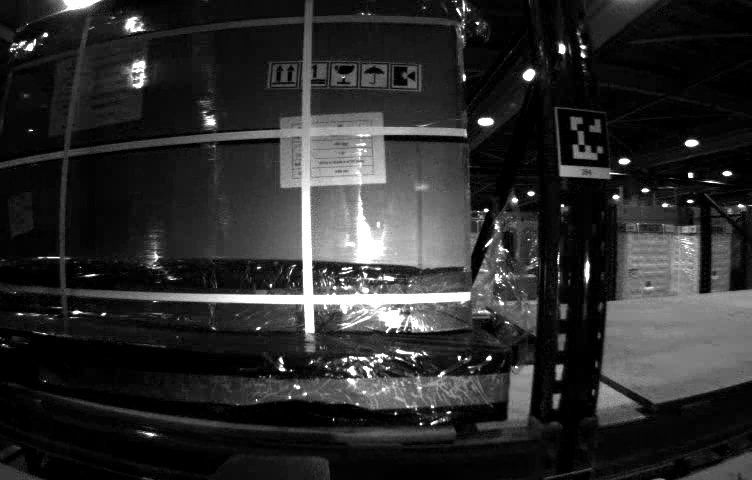True Barcode: (9, 190, 34, 236)
